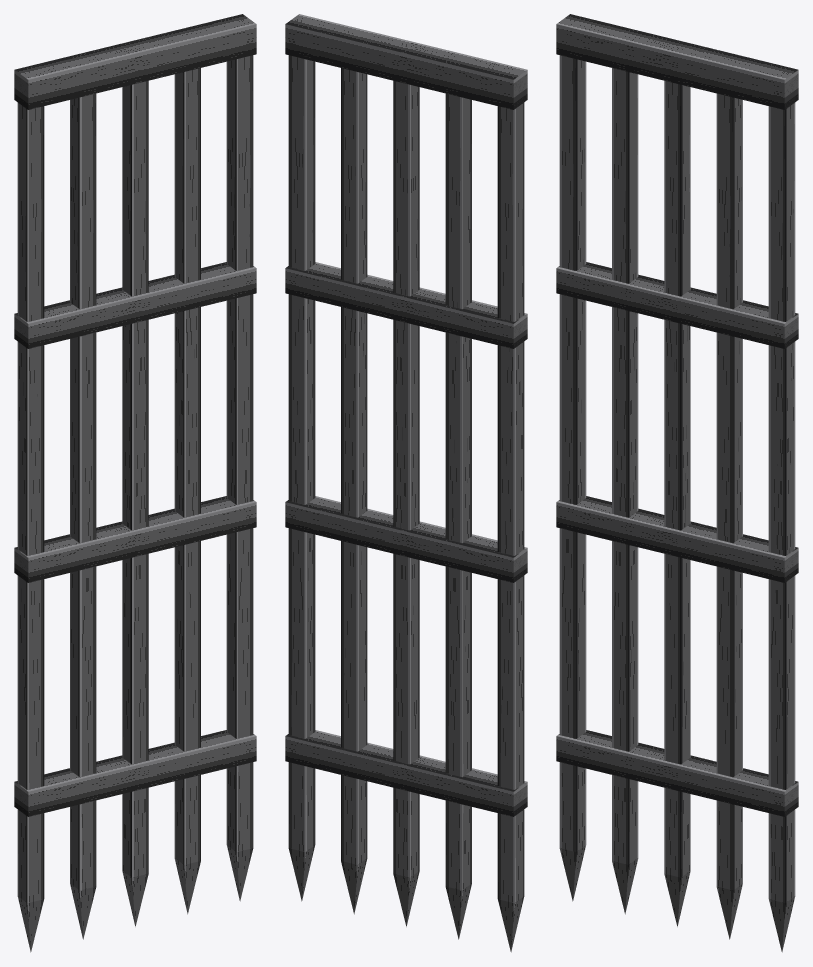
File: gitter_schmal.glb
The picture shows the model from 3 angles, left to right: view 1: azimuth 30°, elevation 25°; view 2: azimuth 150°, elevation 25°; view 3: azimuth 330°, elevation 25°; orthographic projection.
Parts seen in each view (by area): view 1: gitter_schmal; view 2: gitter_schmal; view 3: gitter_schmal.
Boxes of the visible parts, x1,y1,x2,y2 form: gitter_schmal: (14,14,256,952); gitter_schmal: (285,14,527,952); gitter_schmal: (556,14,798,952).
Bounding box in the file's own units: 0.95 × 3.5 × 0.1.
Materials: 1 (1 with a texture image).
